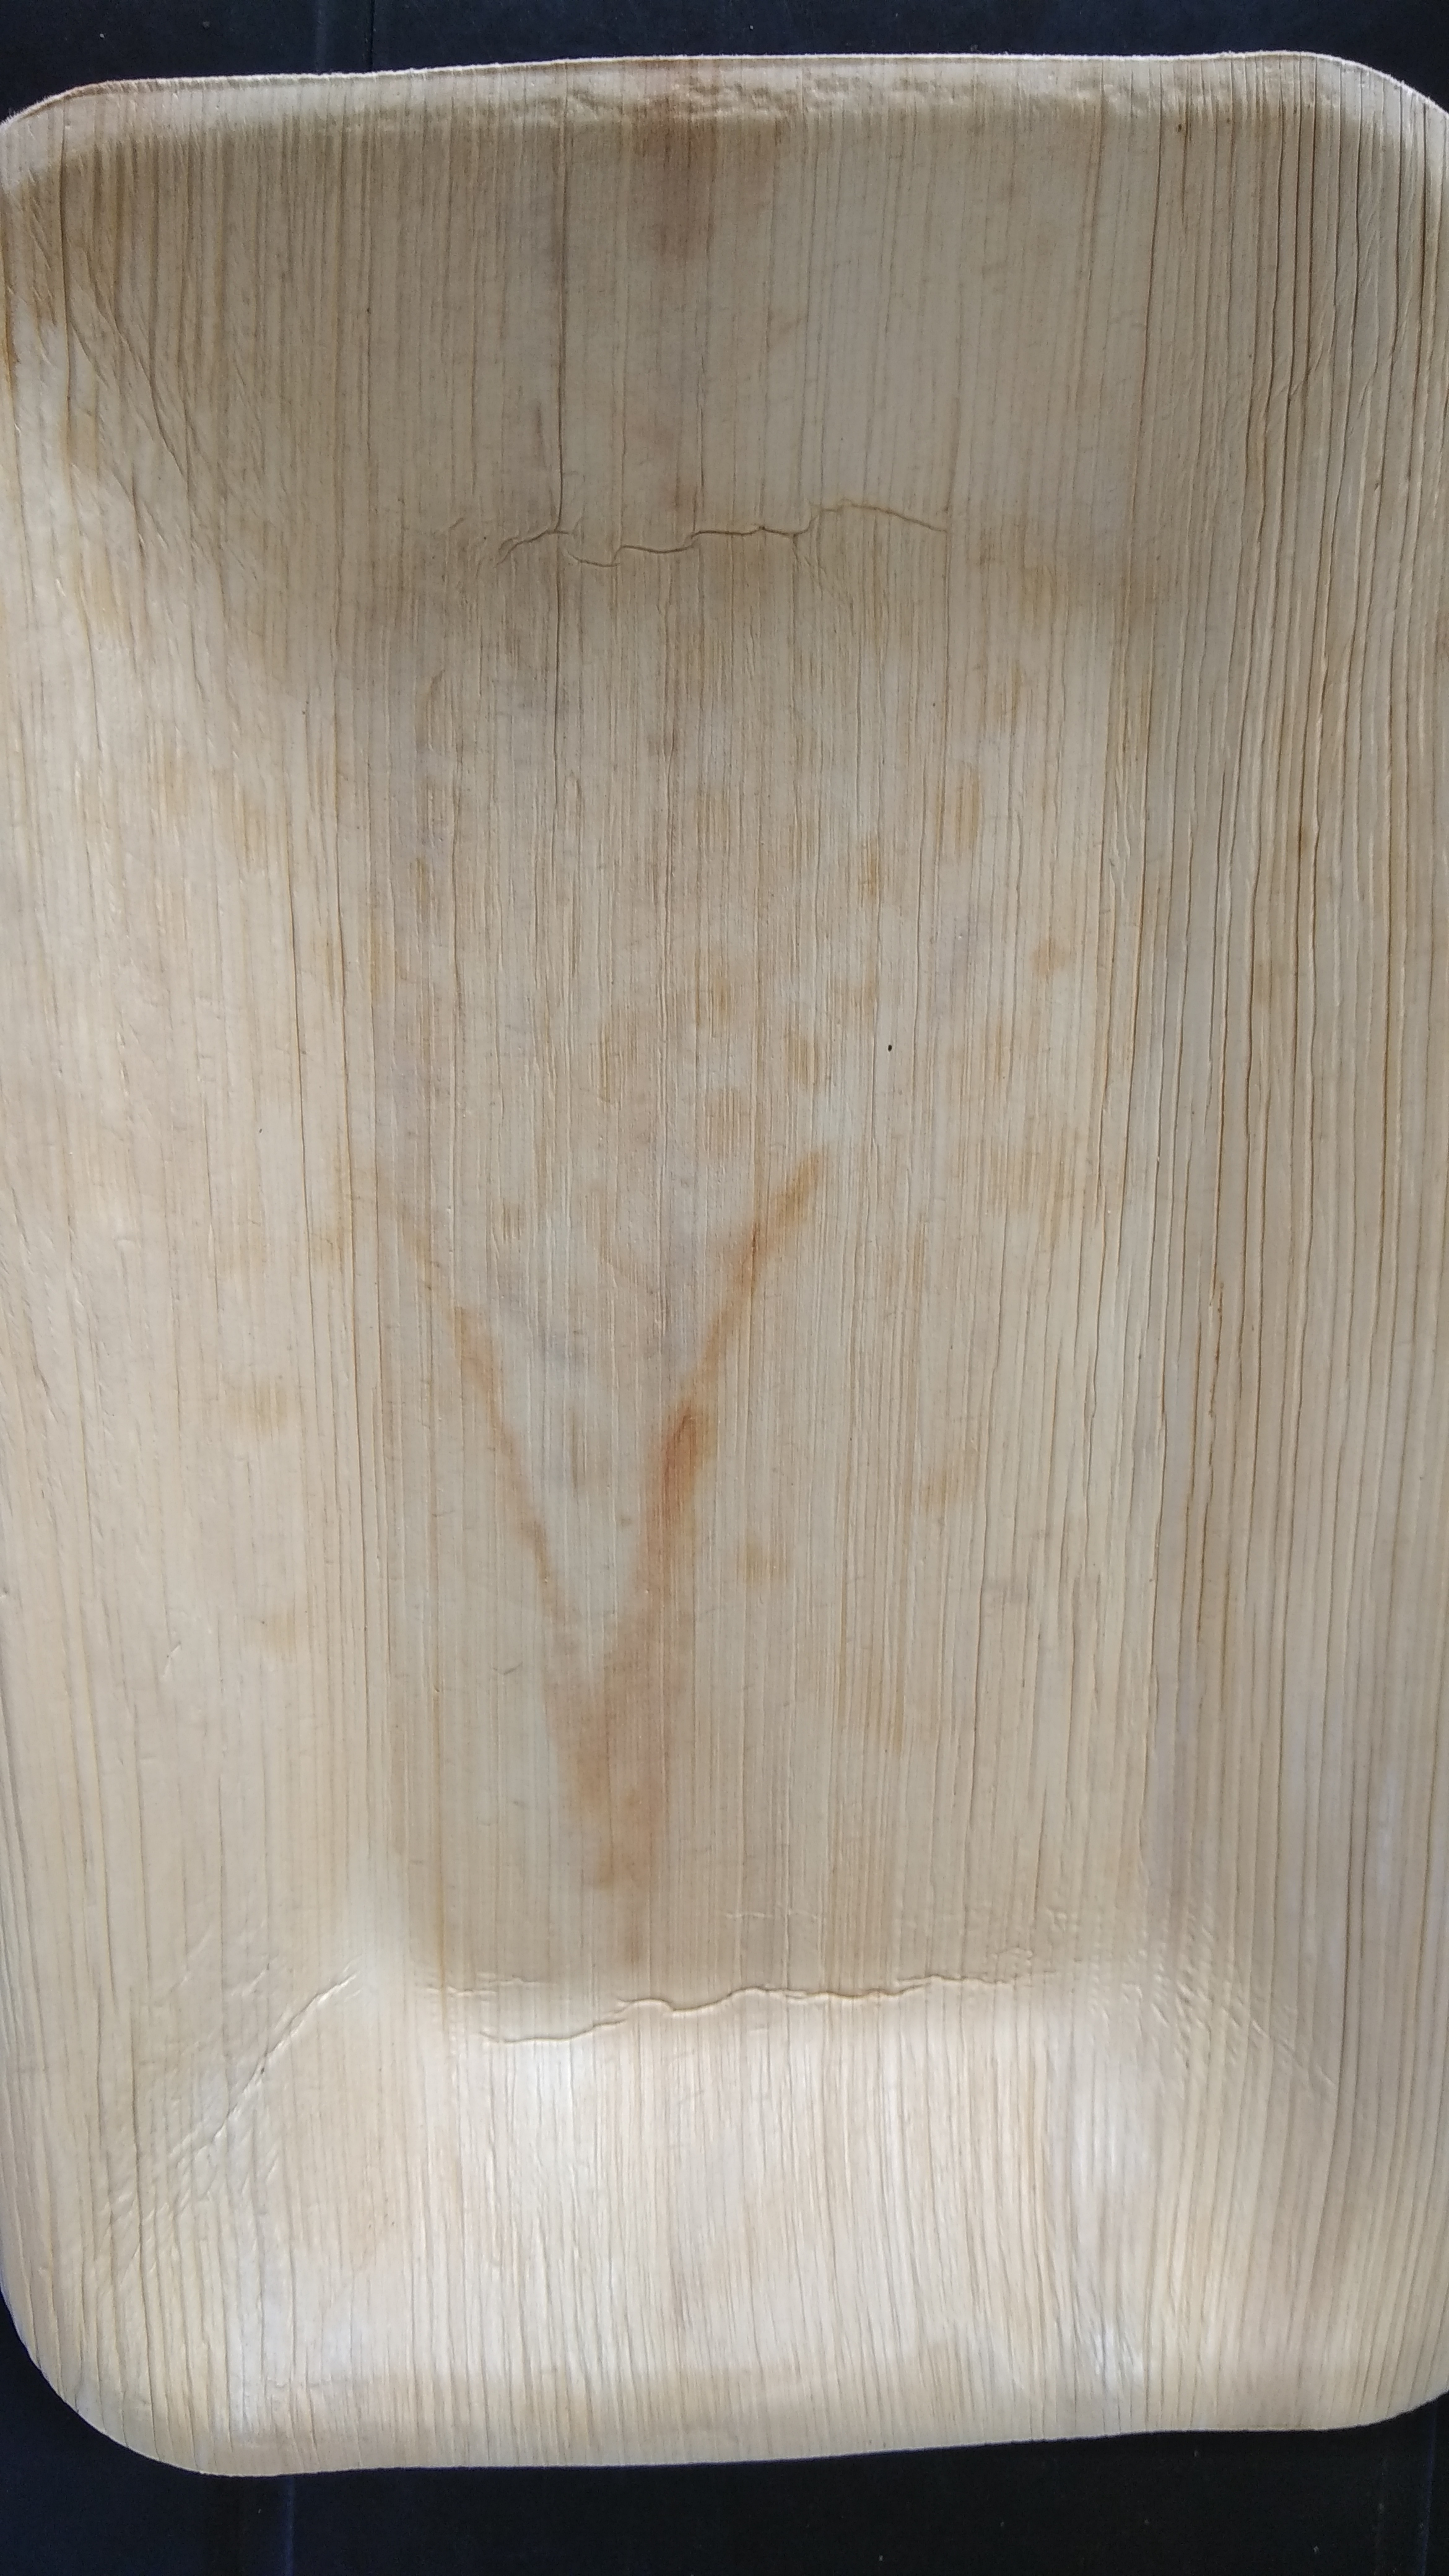areca plate: (46, 34, 1449, 2470)
